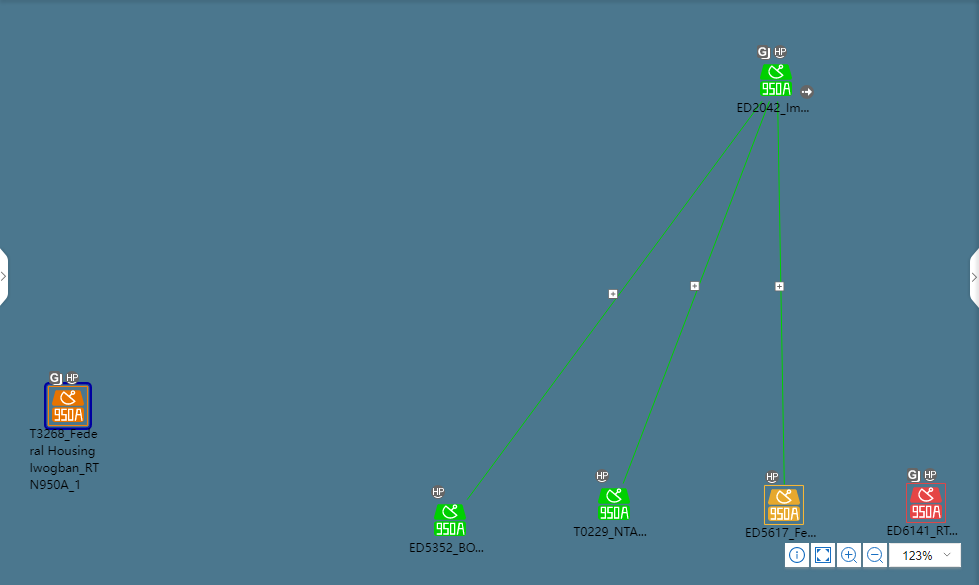Link_Green: (462, 100, 766, 502), (621, 100, 772, 479), (774, 118, 791, 484)
RTN_Green: (597, 491, 632, 527), (431, 504, 465, 539), (762, 63, 791, 98)
RTN_Orange: (762, 485, 803, 527), (52, 387, 87, 423)
RTN_Red: (909, 485, 944, 520)
